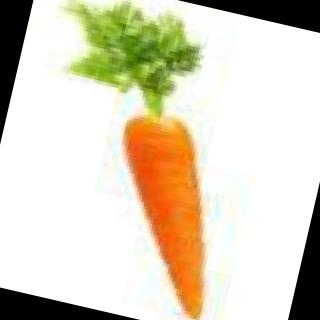Wortel: (1, 1, 305, 320)
